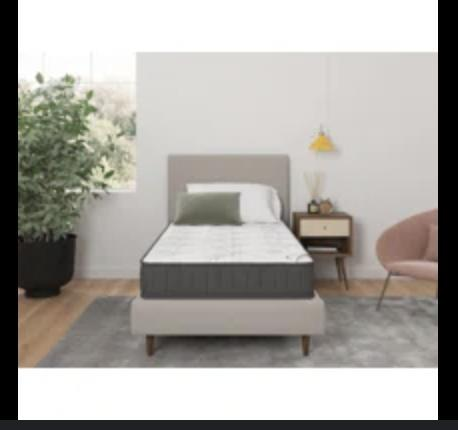Bed-Mattress: (128, 151, 329, 345)
